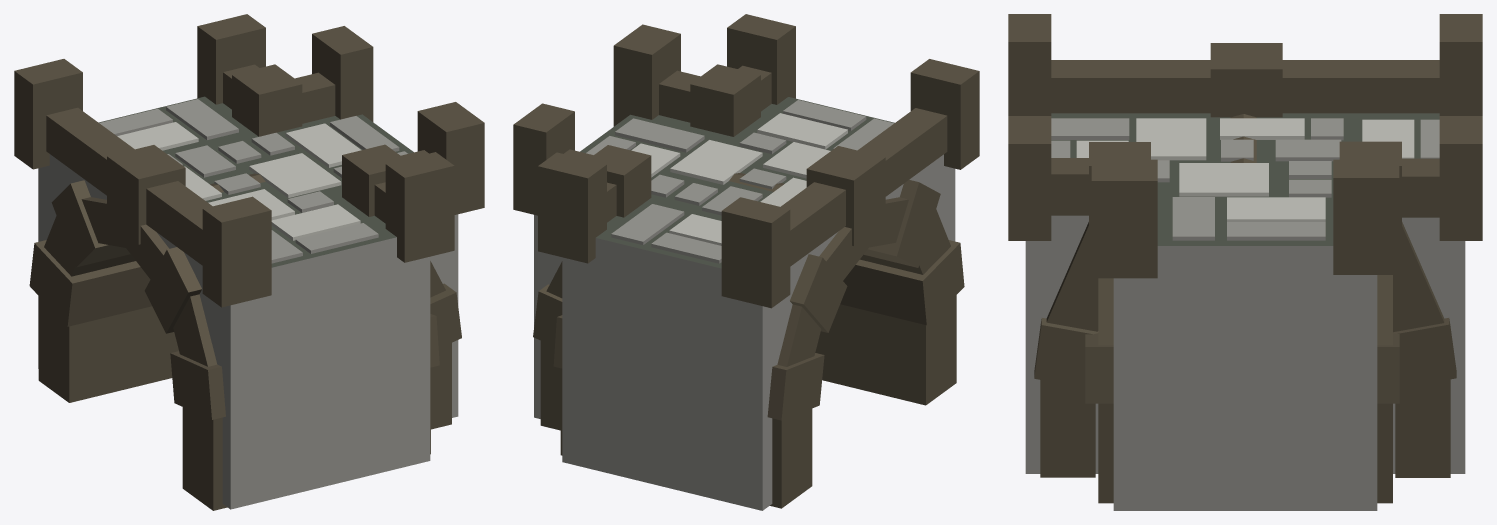
The model's file is stonebridge_tbone.fbx.
3 renders of one model, left to right at view 1: azimuth 30°, elevation 25°; view 2: azimuth 150°, elevation 25°; view 3: azimuth 270°, elevation 25°, orthographic. The views are drawn at different scales.
Parts seen in each view (by area): view 1: polySurface196; view 2: polySurface196; view 3: polySurface196.
Part boxes in pixels (bbox=[...]): polySurface196: bbox=[14, 14, 484, 510]; polySurface196: bbox=[513, 14, 979, 510]; polySurface196: bbox=[1008, 14, 1482, 510].
Bounding box in the file's own units: 90 × 86.6 × 108.
1 material, 1 textured.
